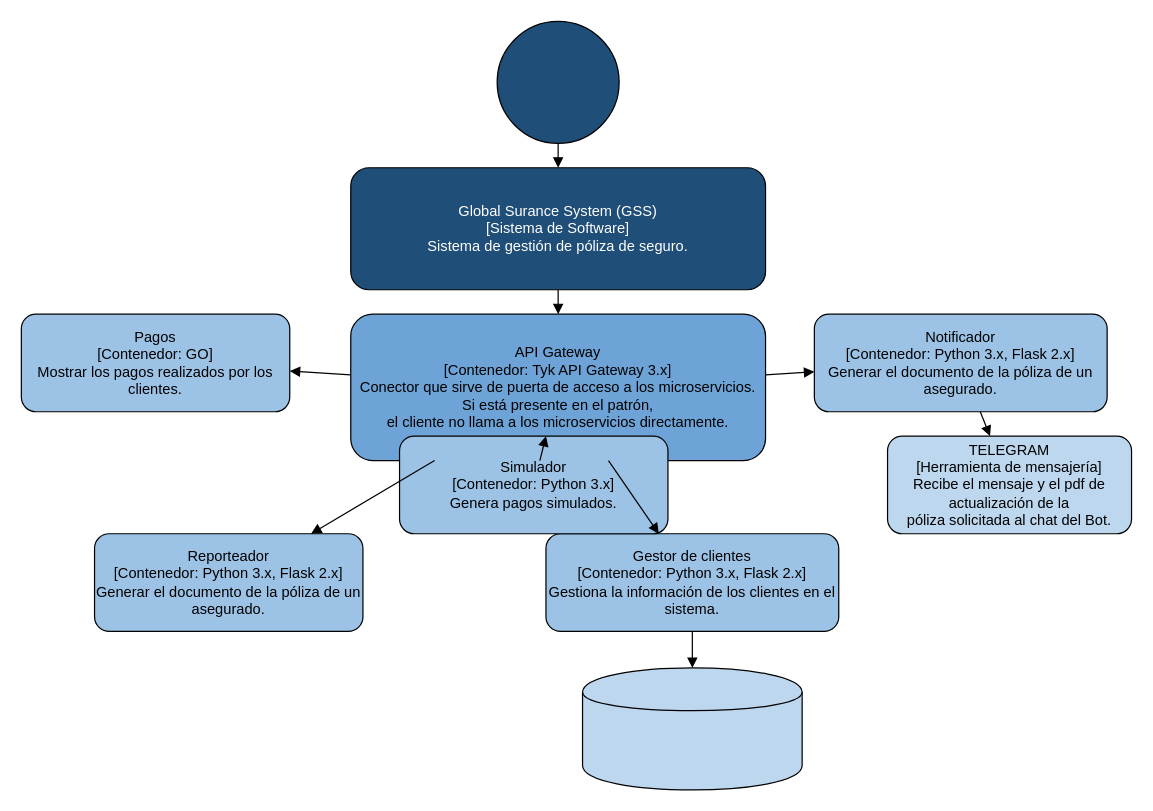
Some shapes in this 1153 by 811 pixel diagram are drawn without their labels. Here are the shapes that lost their labels. From the top down, the centre of each, then its label:
pixel 557 81: Agente de seguros [Persona] Intermediario entre aseguradora y asegurado
pixel 691 728: Base de datos [Contenedor: MongoDB 5.x] Almacena información del sistema
